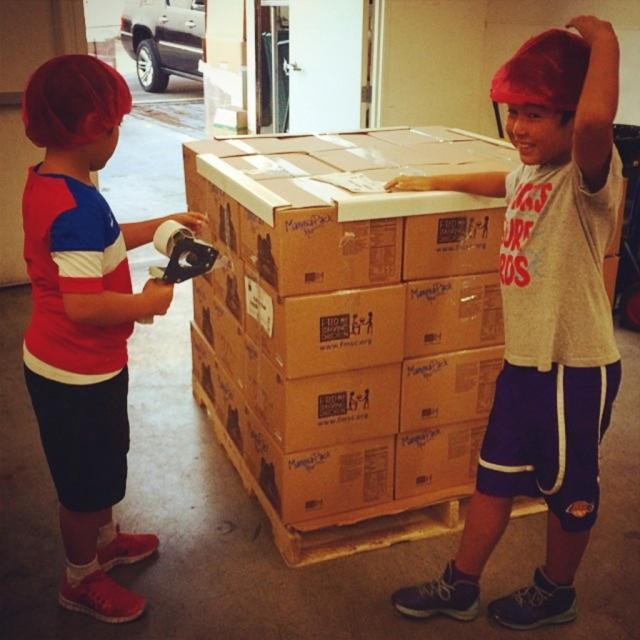Box: (178, 117, 627, 567)
